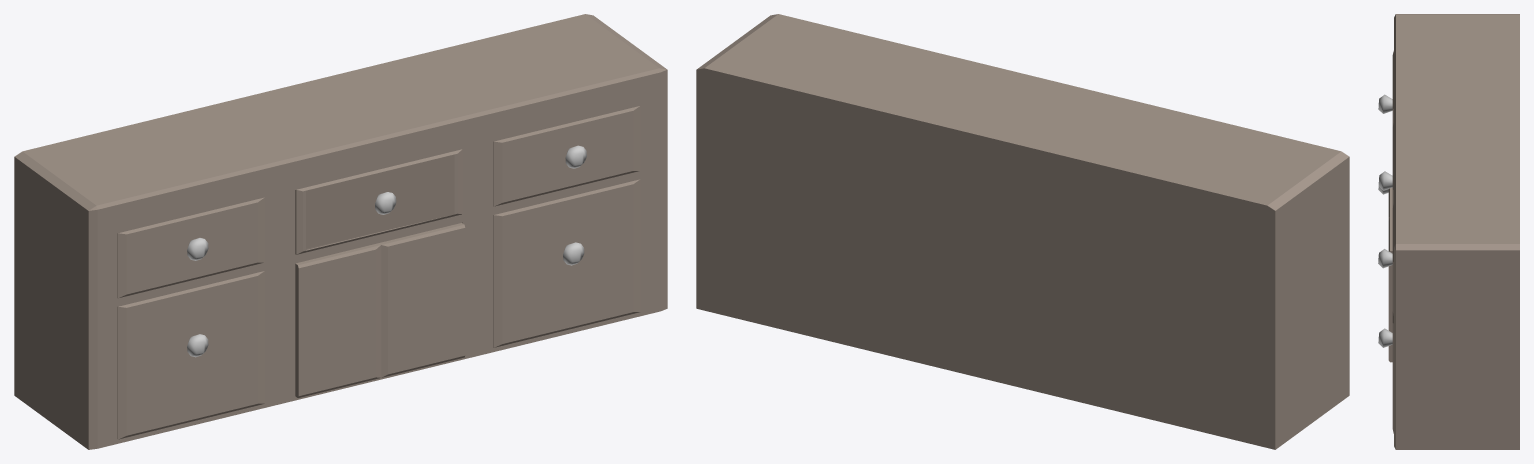
The model's file is prop_Sideboard_Table.fbx.
3 renders of one model, left to right at view 1: azimuth 30°, elevation 25°; view 2: azimuth 150°, elevation 25°; view 3: azimuth 270°, elevation 25°, orthographic. The views are drawn at different scales.
Parts seen in each view (by area): view 1: Sideboard_Table, Console_middle_door, Console_big_right_drawer, Console_big_left_drawer, Console_middle_drawer, Console_right_drawer, Console_left_drawer; view 2: Sideboard_Table; view 3: Sideboard_Table, Console_middle_door, Console_big_right_drawer, Console_right_drawer, Console_middle_drawer, Console_left_drawer.
Part boxes in pixels (box(x1,y1,x2,y2)): Sideboard_Table: box(14, 14, 667, 449); Console_middle_door: box(295, 223, 465, 397); Console_big_right_drawer: box(493, 179, 640, 347); Console_big_left_drawer: box(117, 271, 264, 439); Console_middle_drawer: box(295, 149, 462, 254); Console_right_drawer: box(493, 106, 640, 206); Console_left_drawer: box(117, 197, 264, 298); Sideboard_Table: box(696, 14, 1349, 449); Sideboard_Table: box(1394, 14, 1519, 449); Console_middle_door: box(1388, 187, 1392, 362); Console_big_right_drawer: box(1378, 312, 1393, 433); Console_right_drawer: box(1378, 204, 1393, 315); Console_middle_drawer: box(1378, 123, 1393, 207); Console_left_drawer: box(1378, 51, 1393, 126).
Bounding box in the file's own units: 200 × 80 × 50.72.
Materials: 2 (1 with a texture image).
